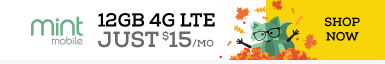fake_button: (318, 14, 368, 47)
